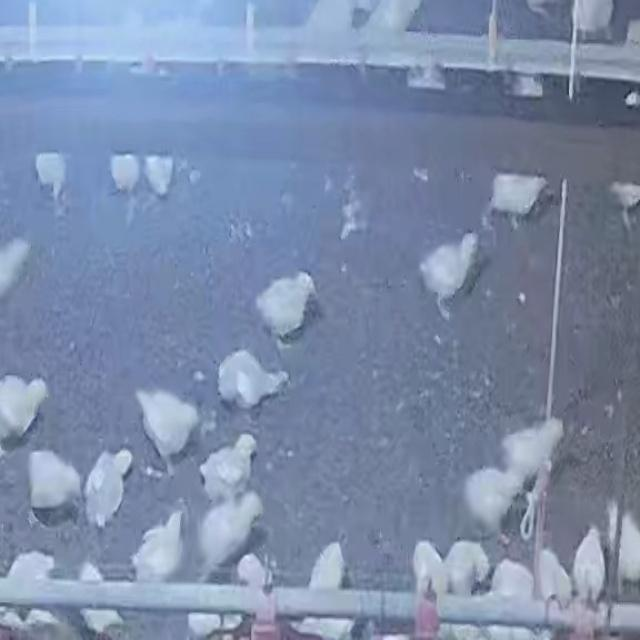chicken: (195, 489, 264, 580), (134, 387, 200, 466), (216, 348, 286, 411), (461, 466, 520, 538), (199, 433, 258, 504), (256, 271, 319, 337), (504, 416, 564, 482), (132, 509, 186, 581), (85, 449, 133, 529), (419, 234, 474, 302), (27, 447, 82, 512), (72, 562, 121, 634), (1, 373, 47, 444), (573, 516, 607, 610), (490, 557, 535, 622), (536, 542, 570, 619), (443, 540, 491, 594), (490, 172, 548, 216), (1, 236, 33, 304), (5, 550, 55, 590), (614, 510, 640, 582), (308, 541, 346, 590), (413, 541, 446, 595), (109, 152, 142, 196), (35, 152, 67, 193), (144, 154, 174, 197), (608, 179, 640, 218)
